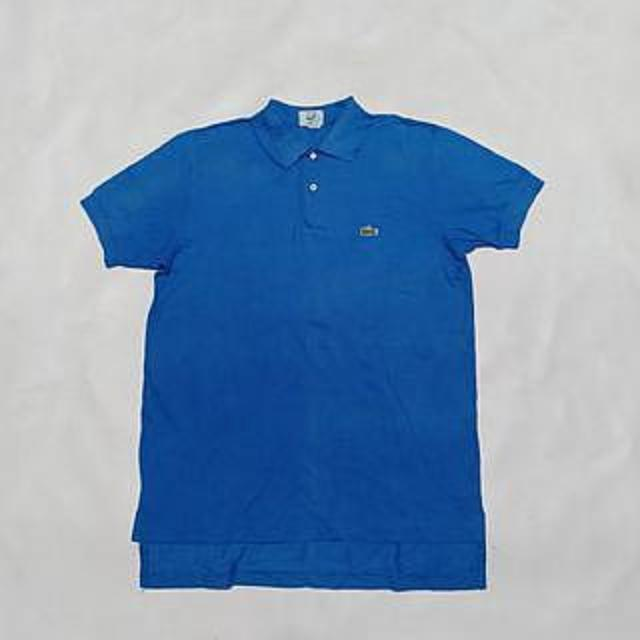T_SHIRT: (50, 81, 553, 598)
